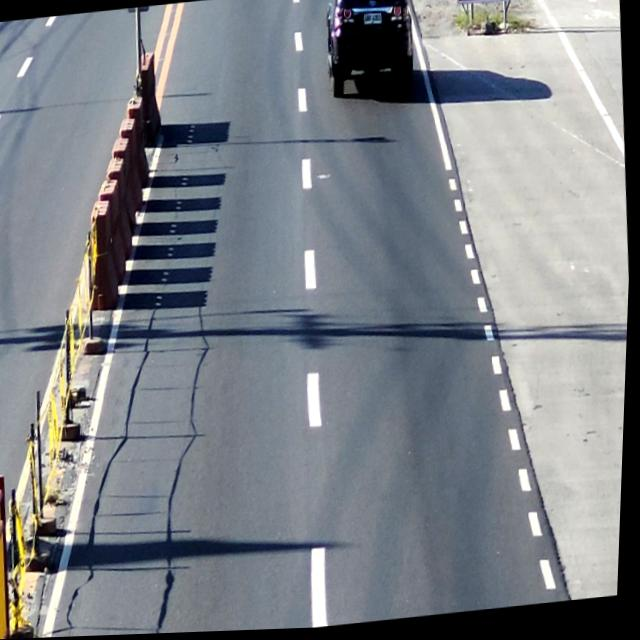Car: (318, 0, 420, 111)
License-Plate: (362, 10, 382, 32)
